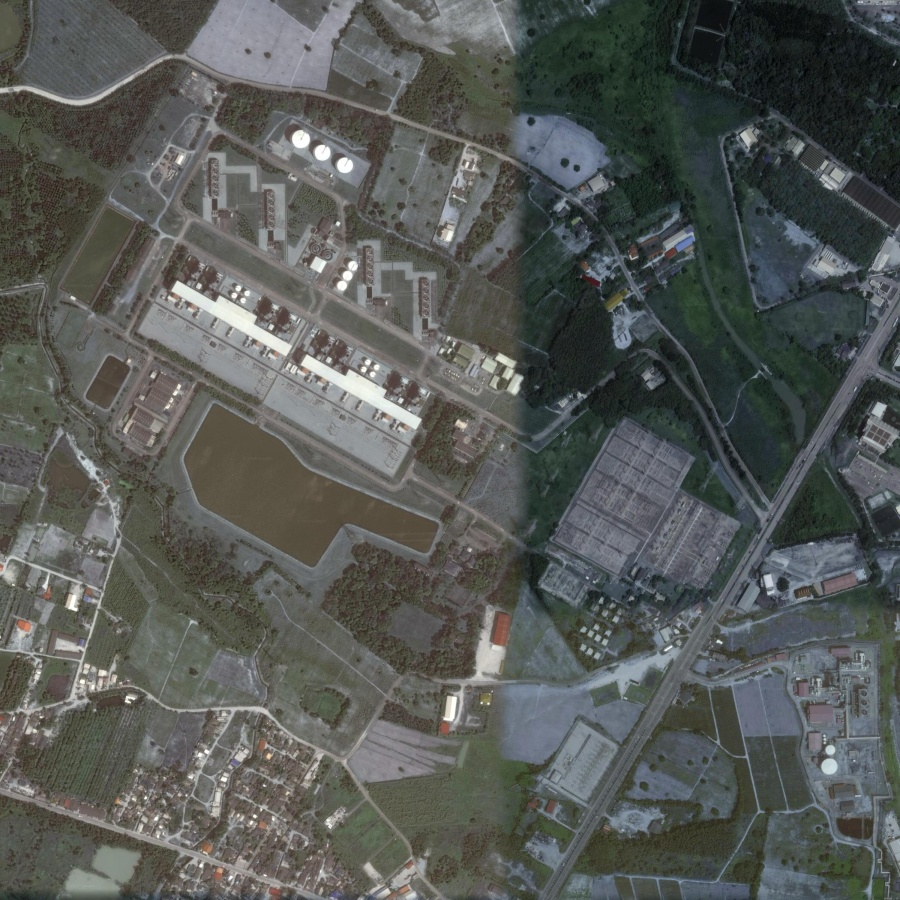PowerPlant: (88, 116, 542, 574)
